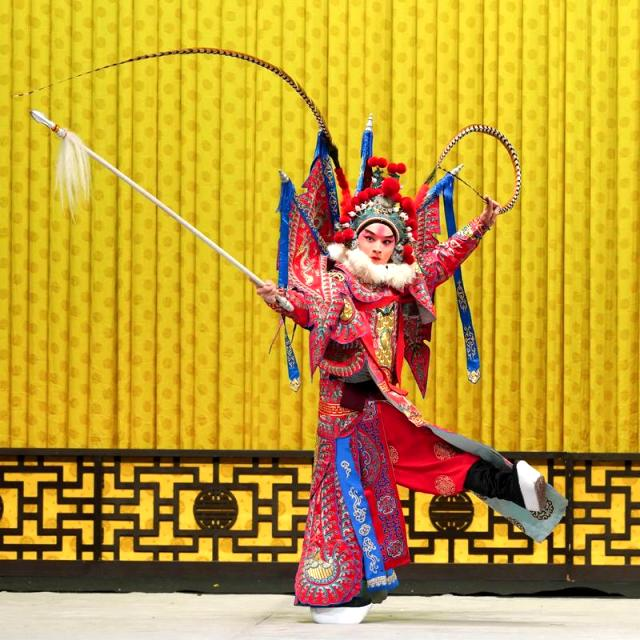Reeves-s Pheasant: (55, 47, 338, 166), (427, 123, 521, 213), (18, 83, 53, 97)
